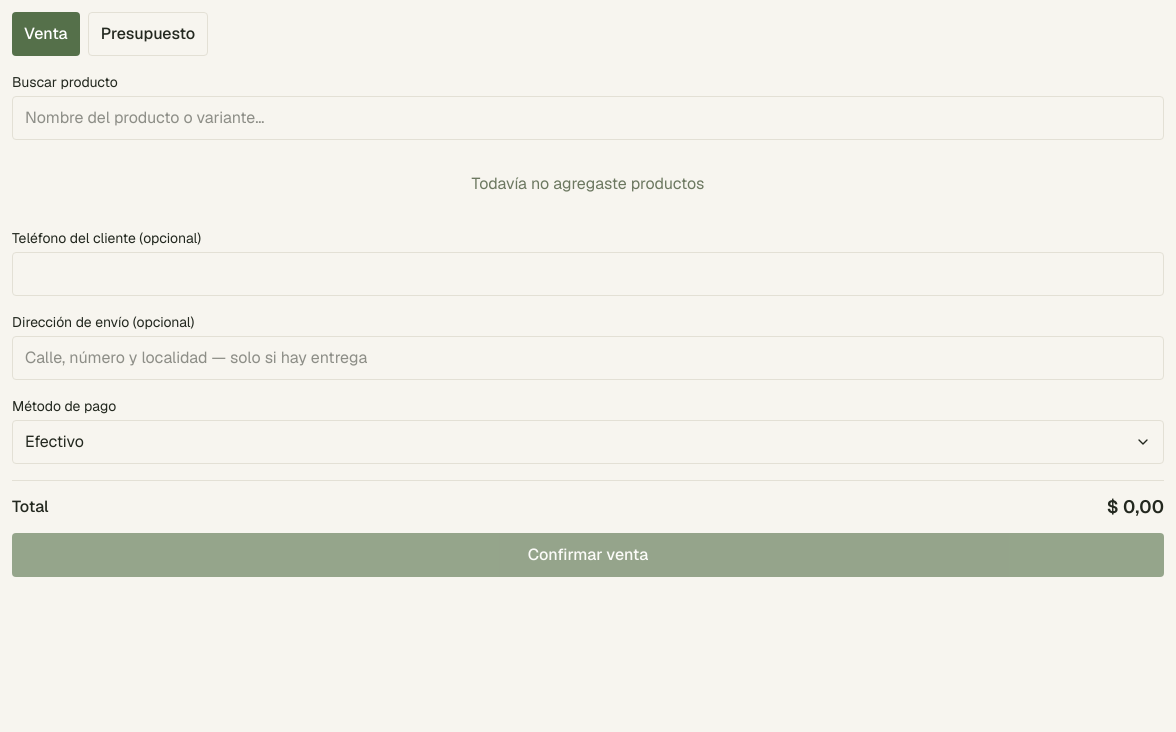
it: SaleCart › busca, agrega al carrito y muestra el total
The width and height of the screenshot is (1176, 732).
Type "milán" into the field labelled "Buscar producto" at (588, 118), box [12,96,1164,140]
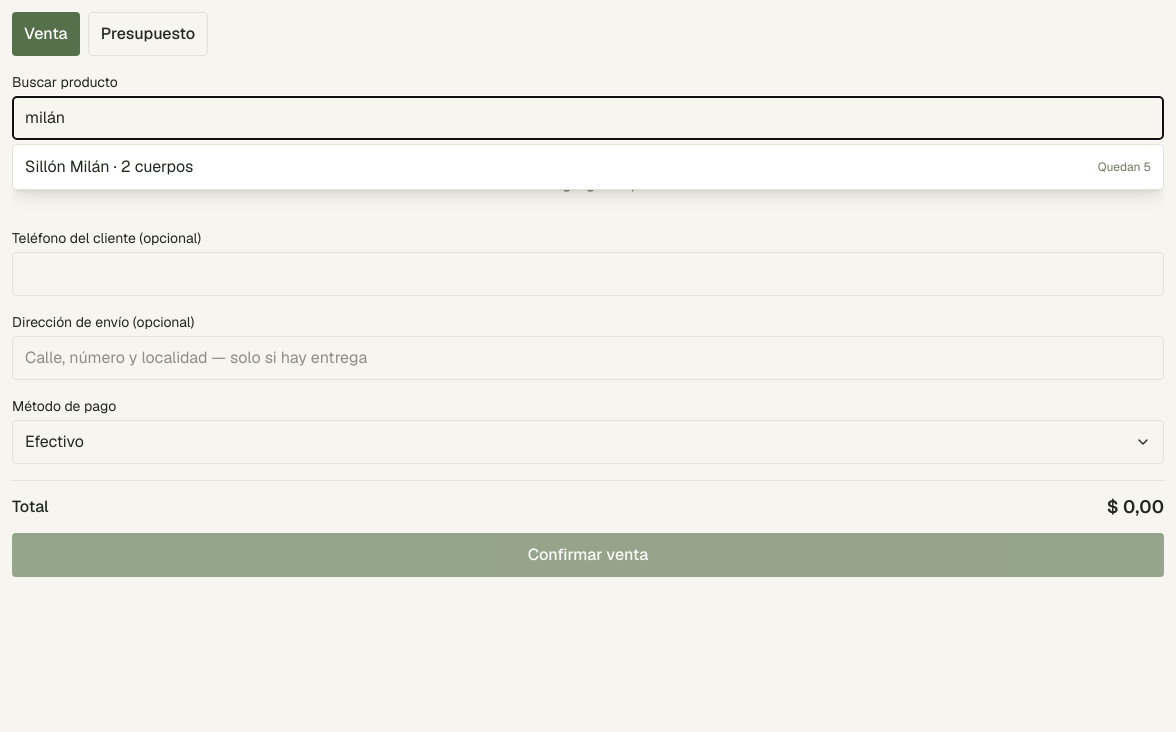
Click the button "Sillón Milán · 2 cuerpos Quedan 5" at (67, 166), box [13,145,1163,189]
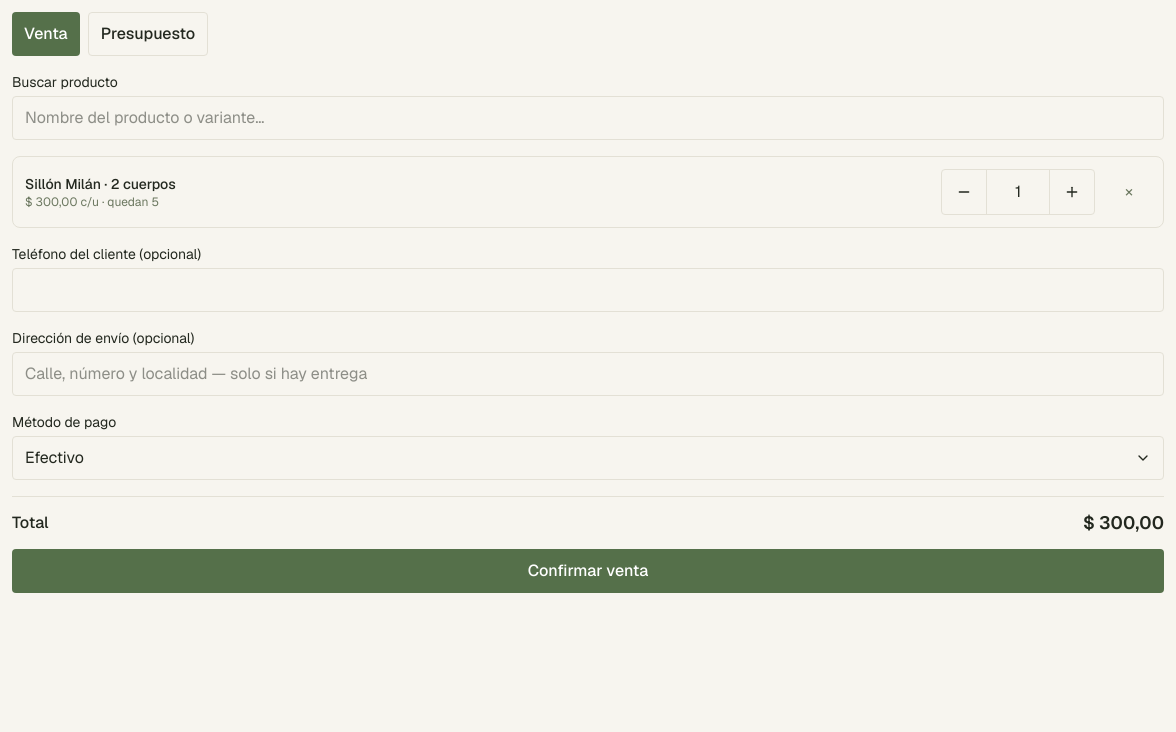
Result: the text "$ 300,00" is shown at [1083,509,1164,537]
